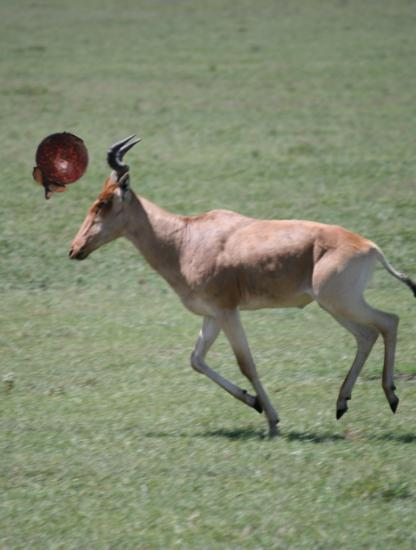Mangostan: (23, 131, 94, 202)
